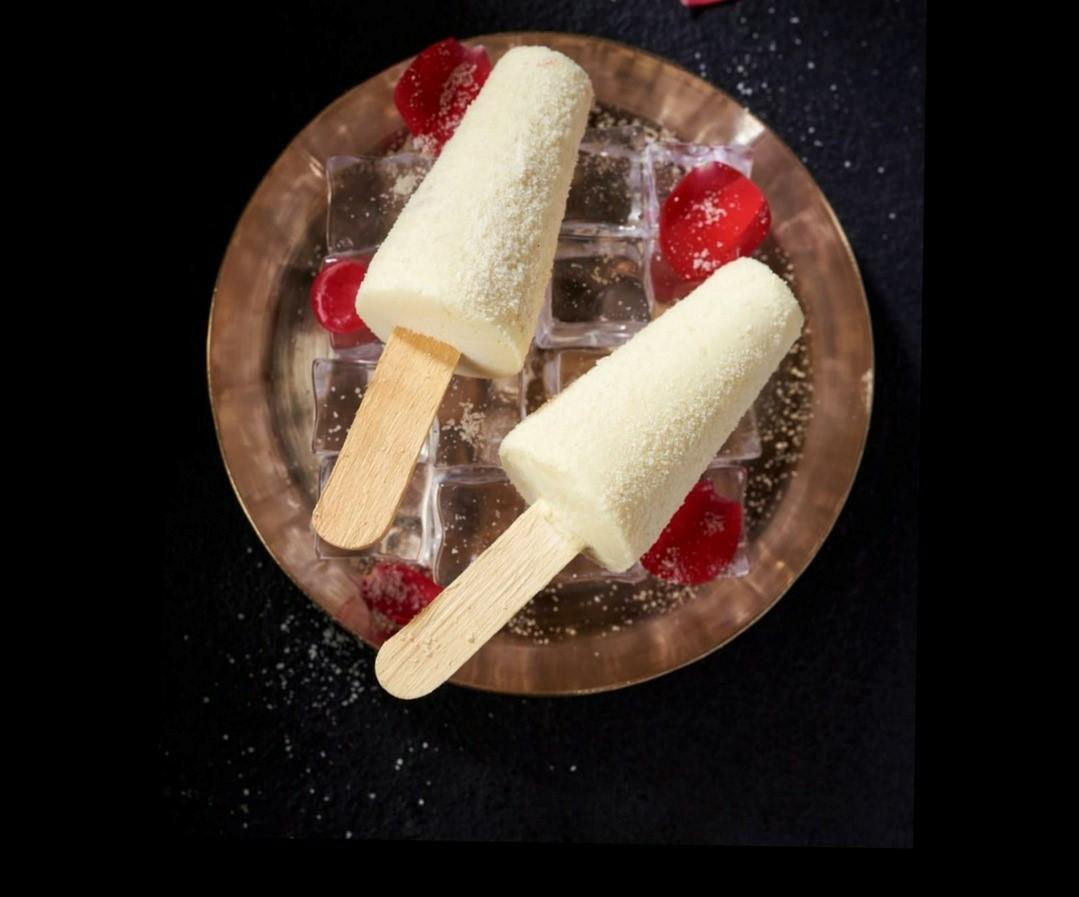Kulfi: (492, 258, 805, 571), (361, 49, 592, 378)
